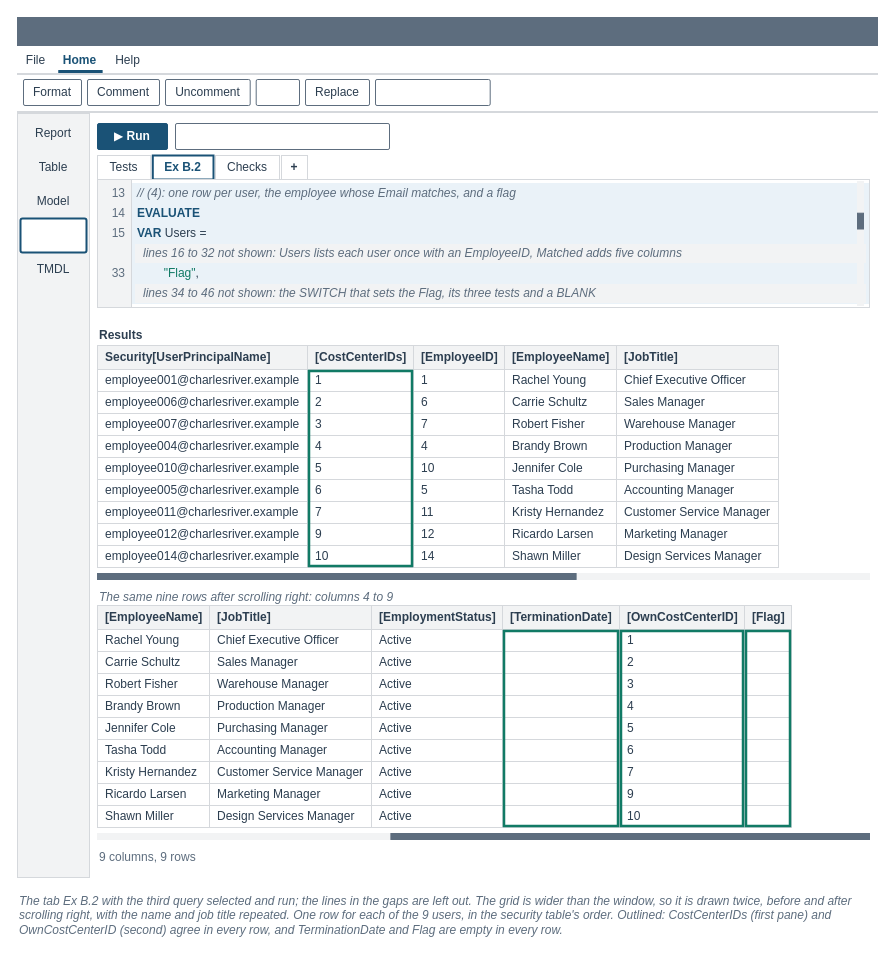
Image size: 895x960. Some labels were removed from this diagram. Here are the shapes that lost their labels. From the top down, the centre of each, then its label:
At pixel 447 31: "Appendix B Exercises - Solutions - Power BI Desktop".
At pixel 277 92: "Find".
At pixel 432 92: "Command palette".
At pixel 282 136: "Update model with changes (0)".
At pixel 53 235: "DAX query".
